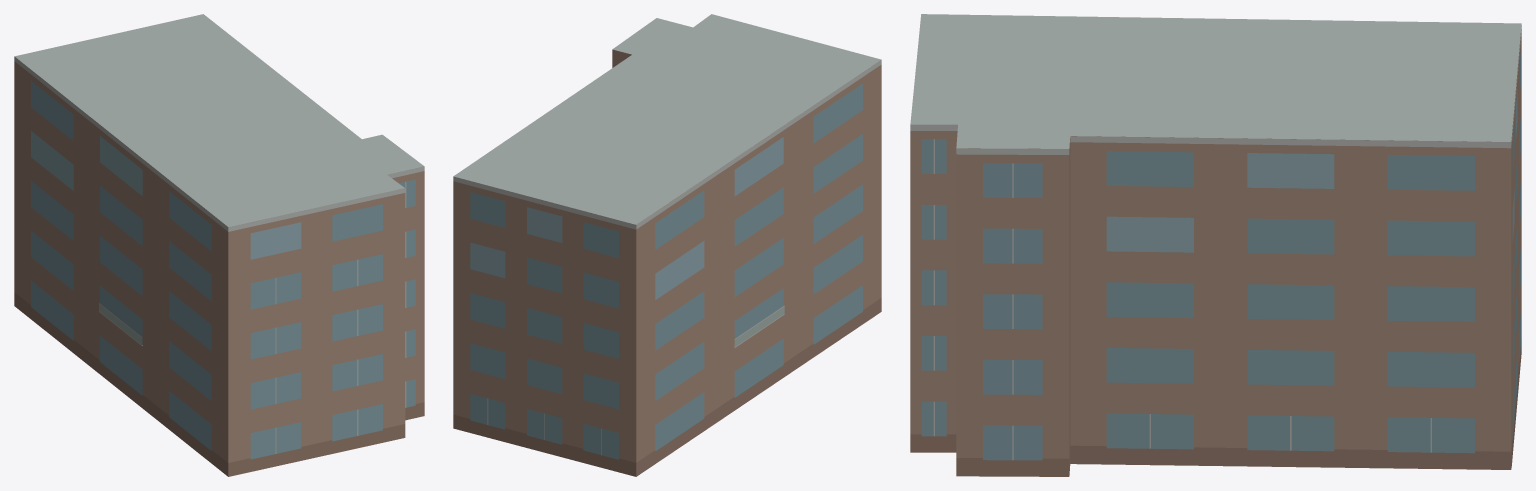
Rendered from survey-upis-33039115.glb.
3 views of the same model, side by side, from view 1: azimuth 30°, elevation 25°; view 2: azimuth 150°, elevation 25°; view 3: azimuth 270°, elevation 25° (orthographic). The views are drawn at different scales.
Visible parts, largest first — view 1: survey-upis-33039115.tmp; view 2: survey-upis-33039115.tmp; view 3: survey-upis-33039115.tmp.
Boxes of the visible parts, box(x1,y1,x2,y2) form: survey-upis-33039115.tmp: box(14, 14, 424, 476); survey-upis-33039115.tmp: box(453, 14, 881, 476); survey-upis-33039115.tmp: box(910, 14, 1521, 476).
Size of the model in its own units: 11.48 by 13 by 21.97.
